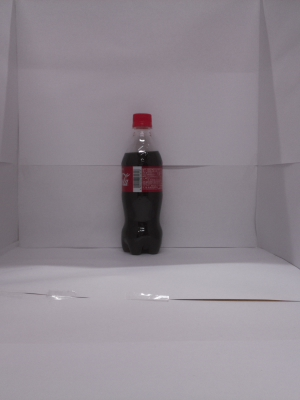コーラ: (112, 105, 172, 262)
